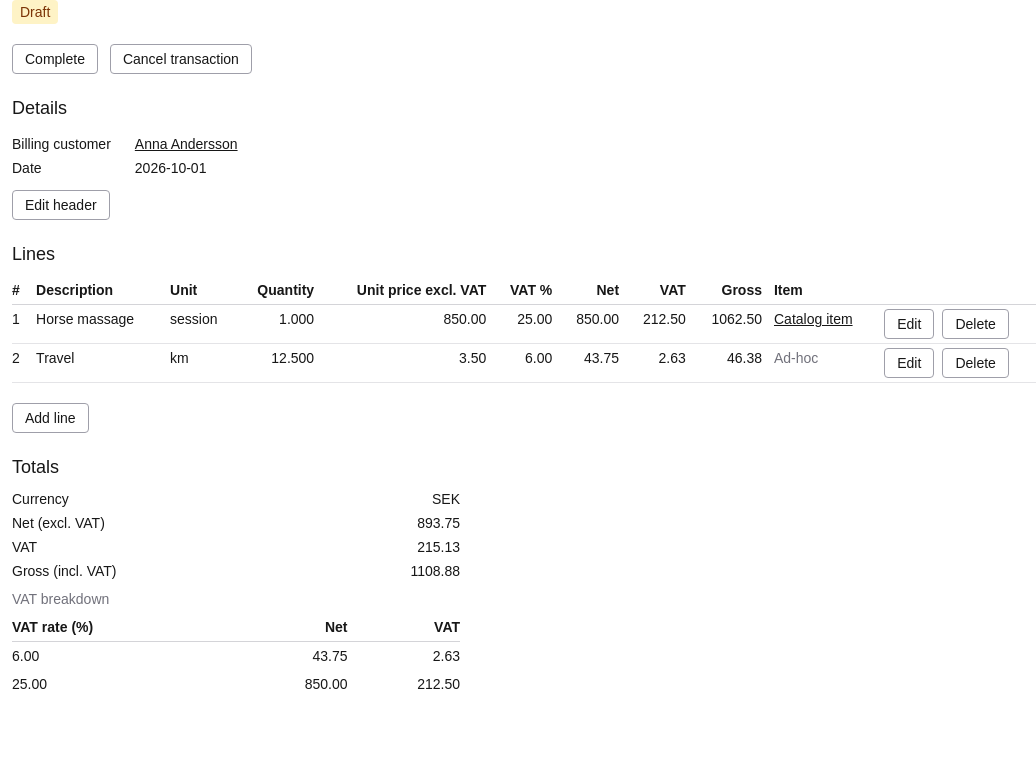
Test: adding a line from the catalog › closes after adding and the line appears when the server sends it
Click the button with test id "add-line" at (50, 418), box [12, 403, 89, 433]
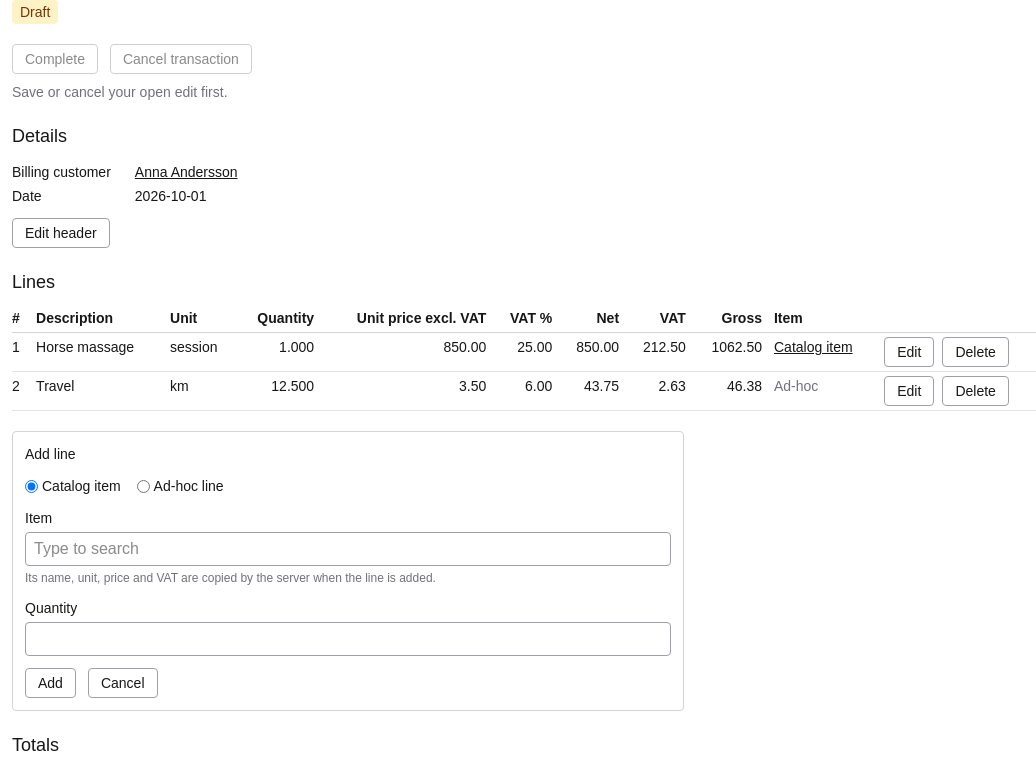
Click the dropdown at (348, 549), box [25, 532, 671, 566]
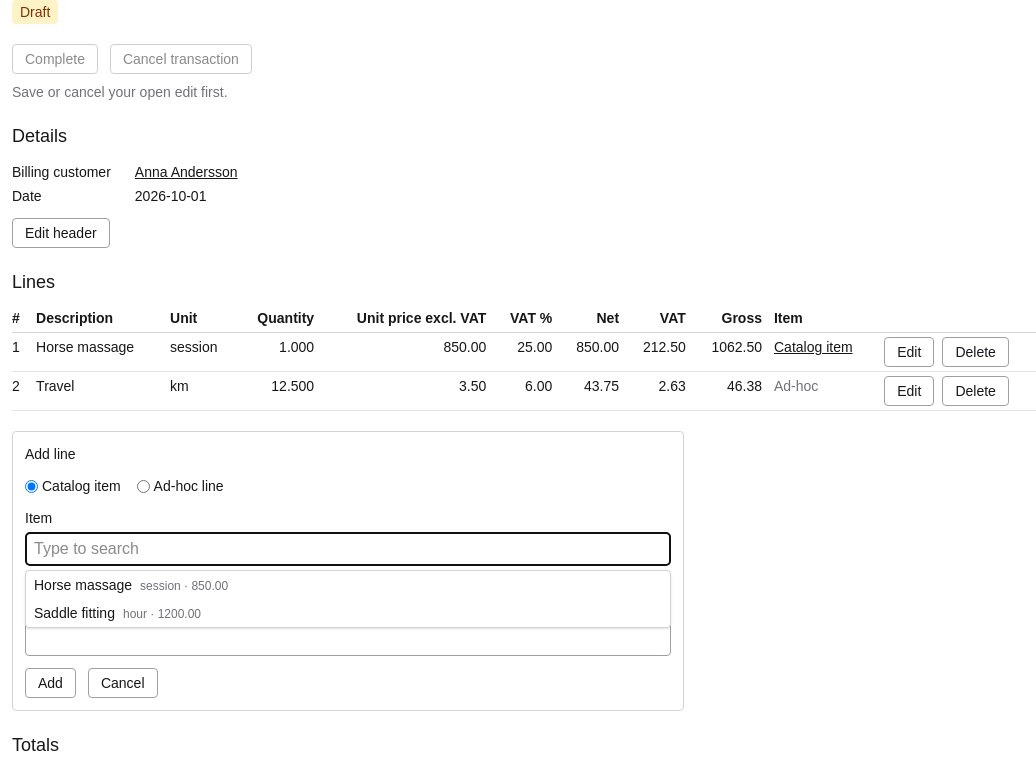
Click the option "Saddle fitting" at (118, 613), box [34, 605, 201, 621]
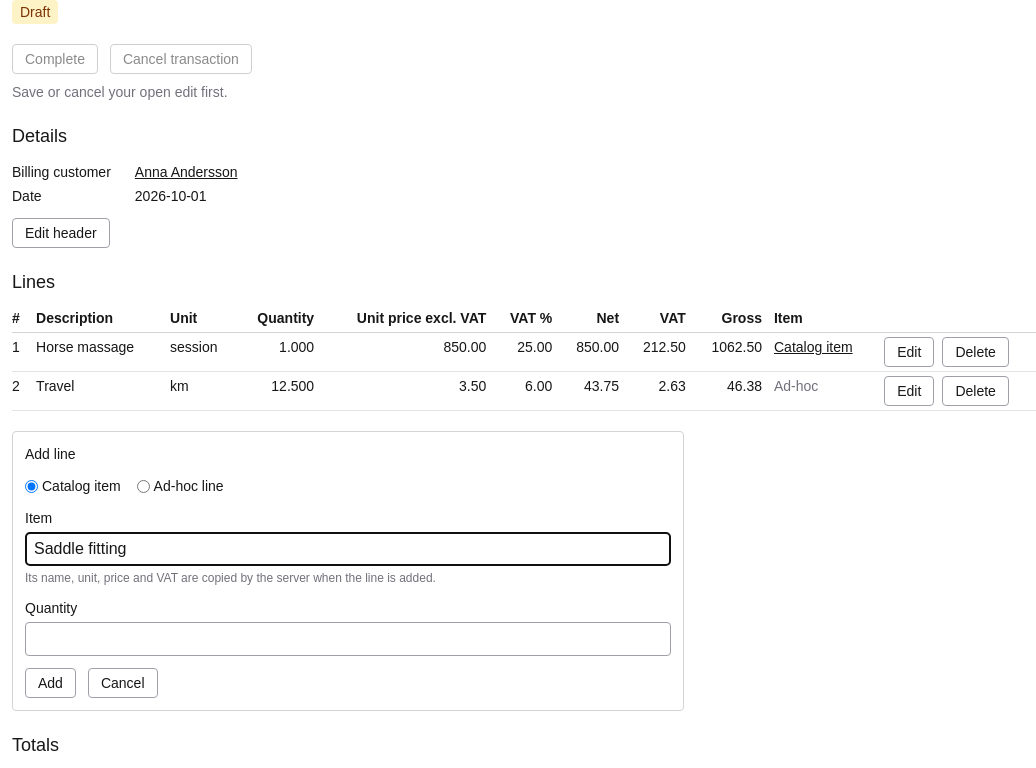
Type "1" into the field labelled "Quantity" at (348, 639), box [25, 622, 671, 656]
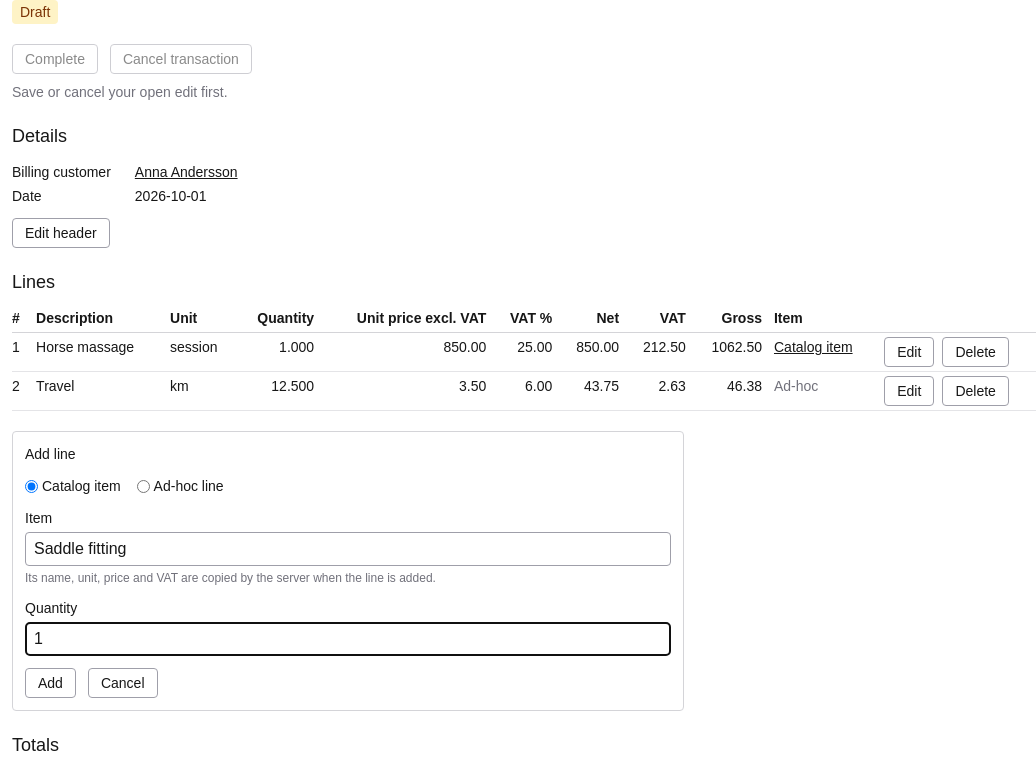
Click the button with test id "submit-line" at (50, 683), box [25, 668, 76, 698]
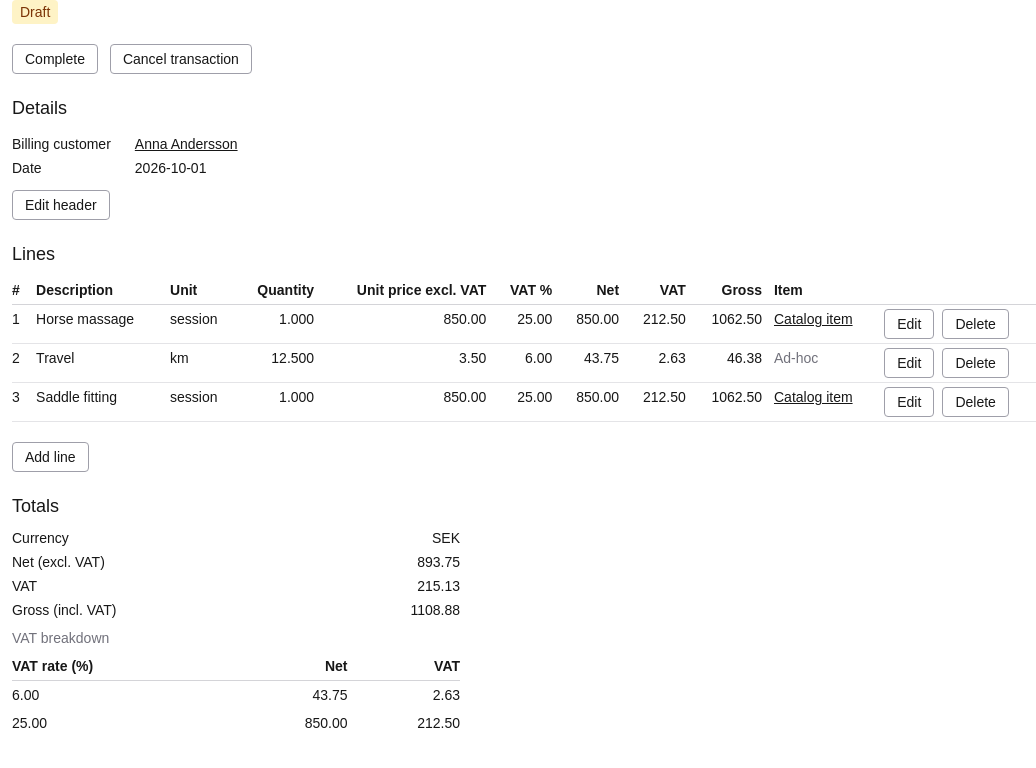
Result: the number of rows with test id "line-row" is 3 at [12, 304, 1035, 344]; [12, 344, 1035, 382]; [12, 382, 1035, 422]
Result: the form with test id "add-line-form" is gone
Result: the button with test id "complete" is enabled at [12, 44, 98, 74]
